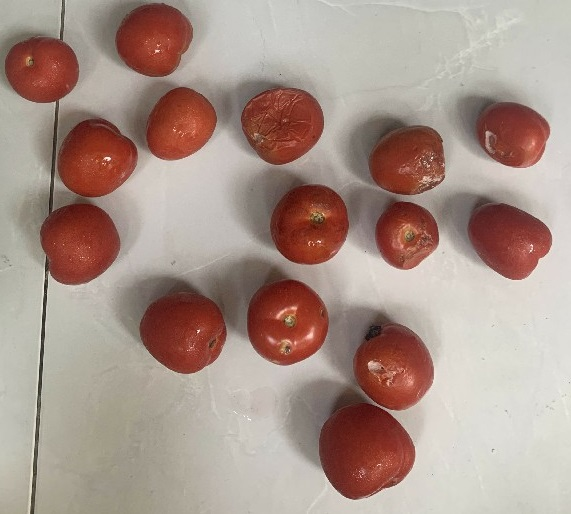NG: (237, 81, 334, 164), (243, 278, 330, 370), (352, 322, 438, 413), (473, 98, 554, 176), (367, 123, 447, 201), (372, 199, 445, 276)
OK: (317, 401, 420, 501), (137, 288, 233, 380), (38, 200, 125, 290), (463, 196, 553, 282), (107, 0, 200, 79), (268, 182, 348, 266), (57, 116, 137, 200), (140, 85, 220, 164), (2, 33, 82, 105)
